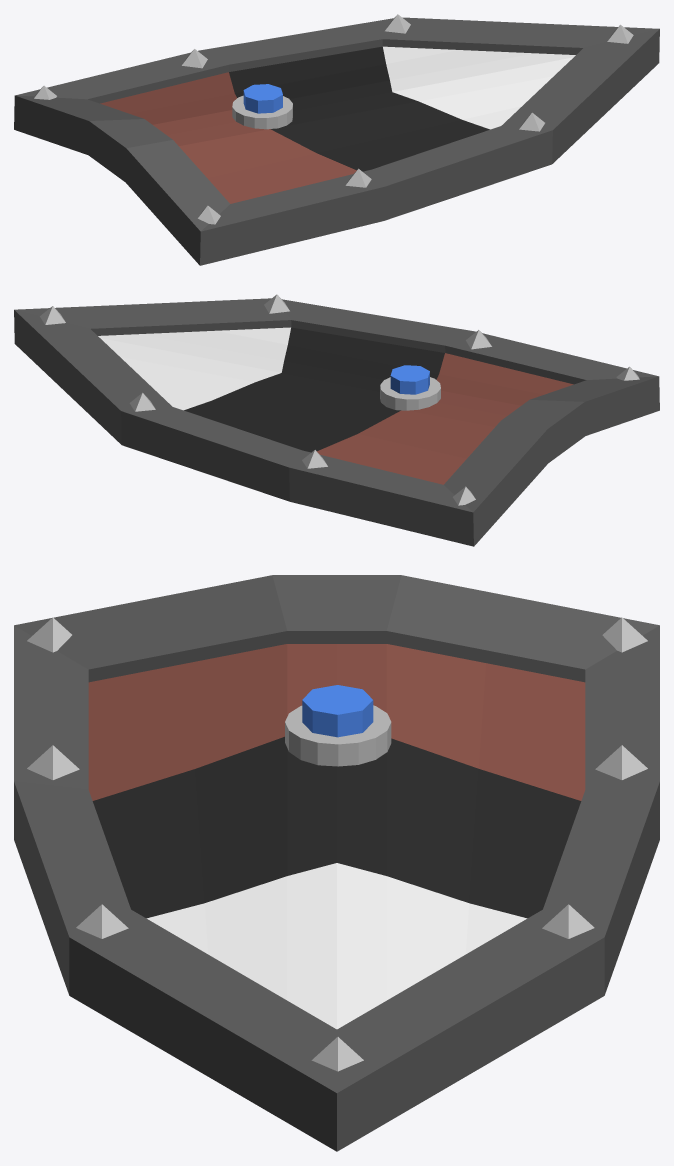
File: Shield_4_d_r.fbx
The picture shows the model from 3 angles, top to bottom: view 1: azimuth 30°, elevation 25°; view 2: azimuth 150°, elevation 25°; view 3: azimuth 270°, elevation 25°; orthographic projection. The views are drawn at different scales.
Visible parts, largest first — view 1: Plane.039, Plane.007, Plane.052, Plane.042, Circle.043, Circle.044; view 2: Plane.039, Plane.007, Plane.052, Plane.042, Circle.043, Circle.044; view 3: Plane.039, Plane.007, Plane.052, Plane.042, Circle.043, Circle.044, Cone.063, Cone.062, Cone.143, Cone.142, Cone.144, Cone.141 (+1 smaller).
Boxes of the visible parts, <box> form: Plane.039: <box>14,17,659,265</box>; Plane.007: <box>229,46,489,171</box>; Plane.052: <box>100,72,356,203</box>; Plane.042: <box>383,46,575,129</box>; Circle.043: <box>232,95,292,129</box>; Circle.044: <box>243,84,282,113</box>; Plane.039: <box>14,298,659,546</box>; Plane.007: <box>184,327,444,452</box>; Plane.052: <box>317,353,573,484</box>; Plane.042: <box>98,327,290,410</box>; Circle.043: <box>380,377,440,410</box>; Circle.044: <box>390,365,429,394</box>; Plane.039: <box>14,575,659,1151</box>; Plane.007: <box>92,736,581,918</box>; Plane.052: <box>88,644,585,800</box>; Plane.042: <box>146,863,527,1029</box>; Circle.043: <box>285,705,391,766</box>; Circle.044: <box>302,685,373,737</box>; Cone.063: <box>27,745,79,779</box>; Cone.062: <box>595,745,647,779</box>; Cone.143: <box>542,904,594,938</box>; Cone.142: <box>76,904,128,938</box>; Cone.144: <box>311,1037,363,1071</box>; Cone.141: <box>602,617,647,652</box>.
Size of the model in its own units: 78.1 by 17.09 by 45.5.
